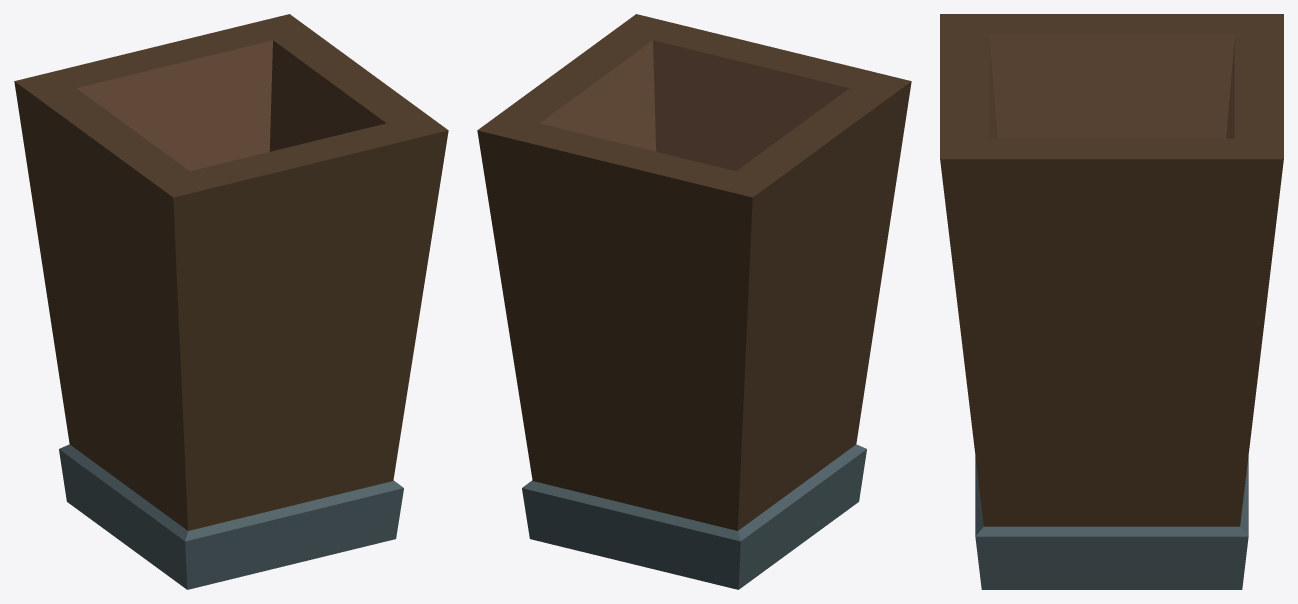
Rendered from mülleimer.fbx.
The picture shows the model from 3 angles, left to right: view 1: azimuth 30°, elevation 25°; view 2: azimuth 150°, elevation 25°; view 3: azimuth 270°, elevation 25°; orthographic projection. The views are drawn at different scales.
Visible parts, largest first — view 1: Cube.019; view 2: Cube.019; view 3: Cube.019.
Boxes of the visible parts, x1,y1,x2,y2 form: Cube.019: (14, 14, 448, 589); Cube.019: (477, 14, 911, 589); Cube.019: (940, 14, 1283, 589).
Size of the model in its own units: 88.17 by 127 by 88.17.
